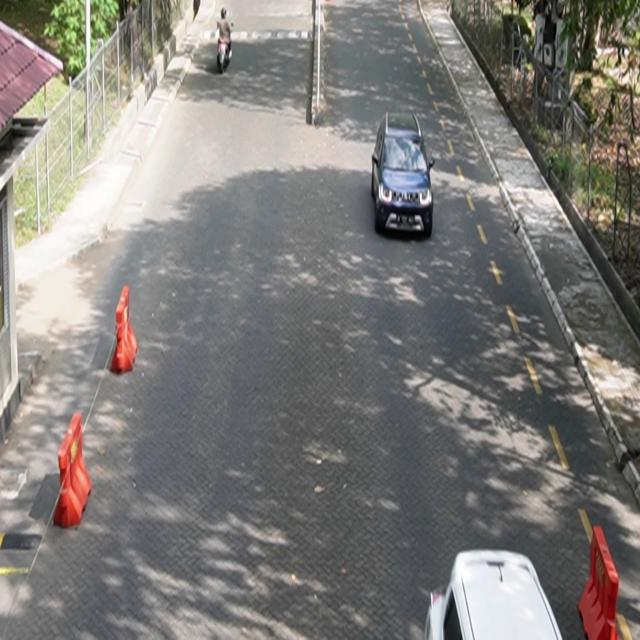car: (425, 549, 564, 640), (372, 111, 436, 239)
